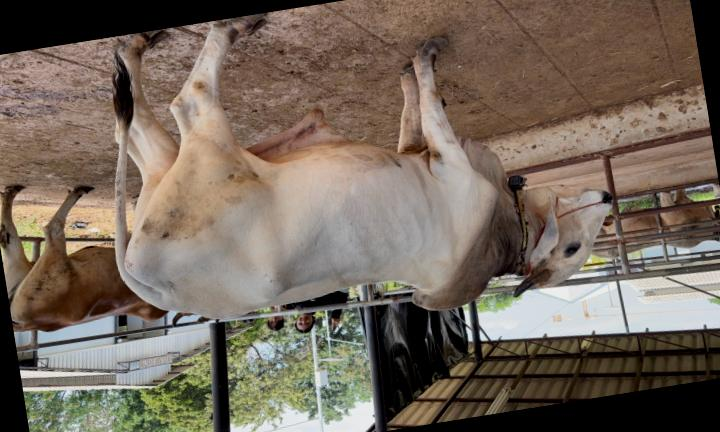Brahman: (114, 12, 611, 319)
